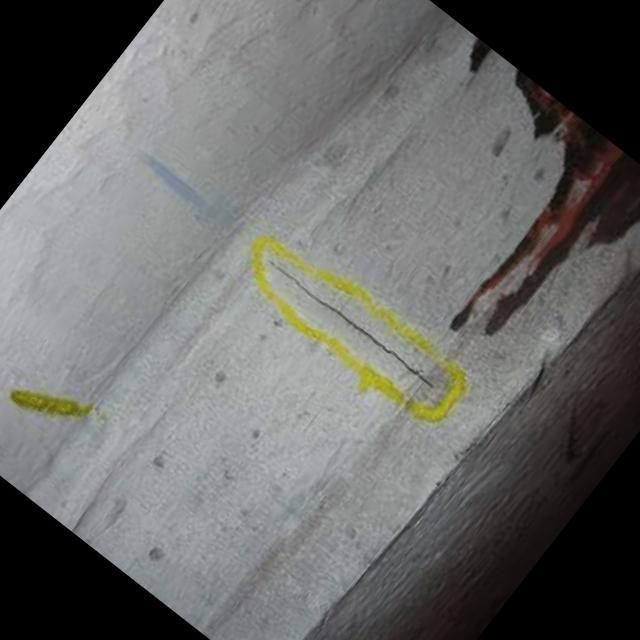defect: (259, 254, 436, 389)
